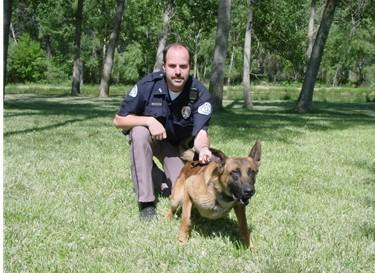German_shepherd: (167, 143, 263, 252)
